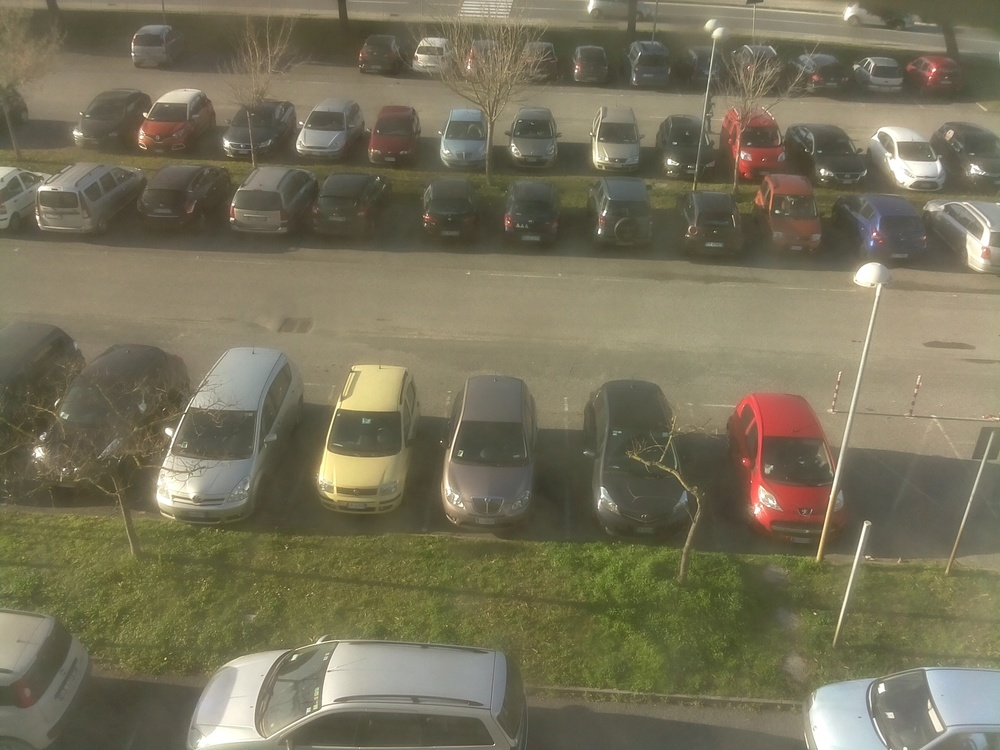Car: (186, 640, 528, 750), (155, 347, 304, 525), (32, 344, 191, 488), (726, 393, 847, 542), (583, 379, 692, 535), (803, 667, 1000, 750), (316, 364, 420, 514), (440, 375, 537, 528), (0, 609, 91, 750), (0, 322, 85, 454), (35, 163, 146, 235), (832, 193, 927, 262), (137, 165, 233, 230), (229, 166, 318, 235), (923, 199, 1000, 275), (753, 174, 822, 253), (785, 124, 868, 187), (867, 126, 946, 192), (137, 88, 216, 153), (311, 173, 391, 237), (719, 109, 786, 181), (931, 121, 1000, 190), (72, 89, 151, 148), (588, 177, 653, 248), (221, 100, 297, 159), (295, 99, 365, 160), (679, 191, 743, 256), (655, 115, 716, 178), (502, 180, 560, 246), (421, 179, 479, 240), (0, 166, 54, 231), (590, 106, 642, 172), (506, 107, 560, 167), (368, 106, 421, 165), (439, 108, 487, 169), (788, 53, 850, 94), (905, 55, 961, 97), (130, 25, 181, 68), (842, 1, 915, 30), (627, 41, 672, 88), (730, 45, 780, 86), (675, 46, 724, 87), (852, 56, 903, 93), (359, 34, 405, 74), (466, 38, 504, 78), (413, 37, 451, 75), (572, 46, 609, 85), (520, 41, 559, 78), (586, 0, 651, 21), (0, 86, 29, 128)
